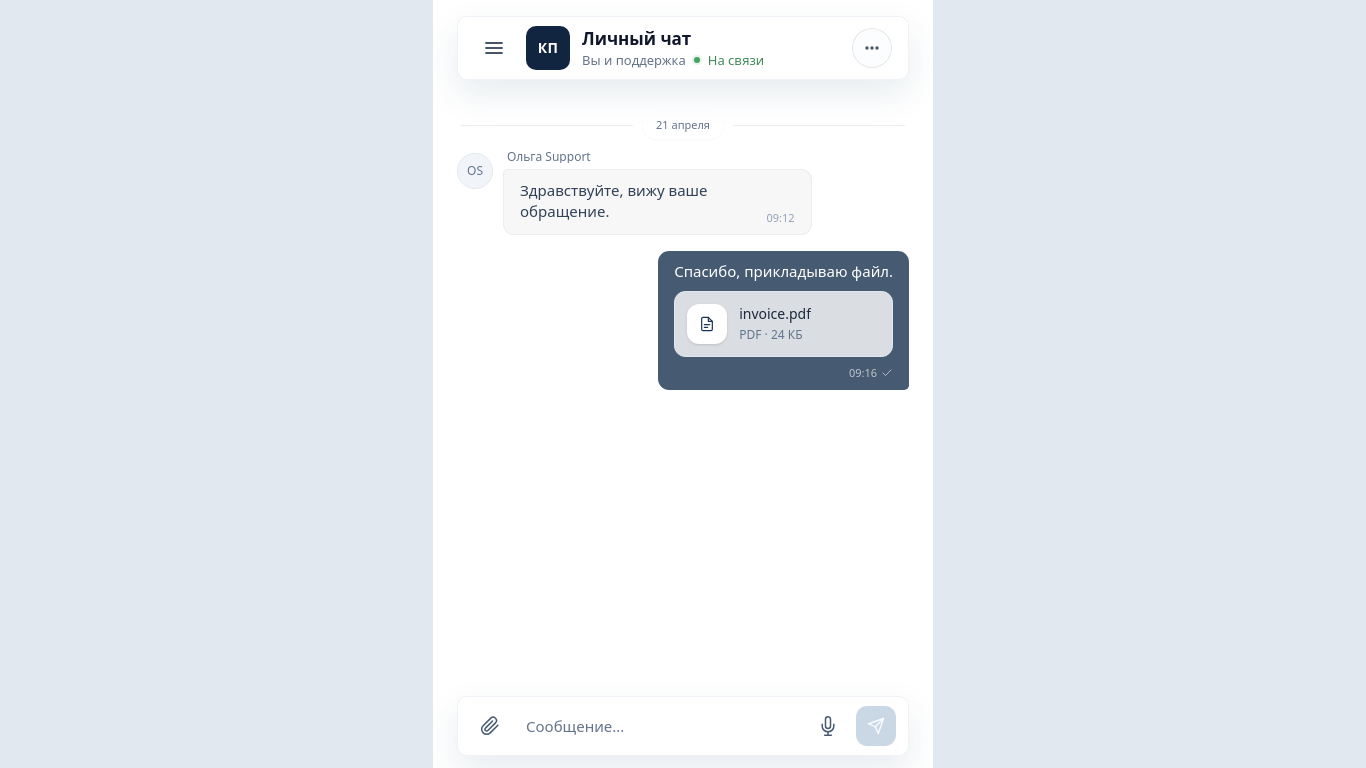
Test: ChatPage › records and sends a microphone voice message through the attachment pipeline
Expected: the text "Здравствуйте, вижу ваше обращение." is shown, x1=520 y1=180 x2=712 y2=221
Click the button named "Голосовое сообщение": x=828, y=726 x1=808 y1=706 x2=848 y2=746
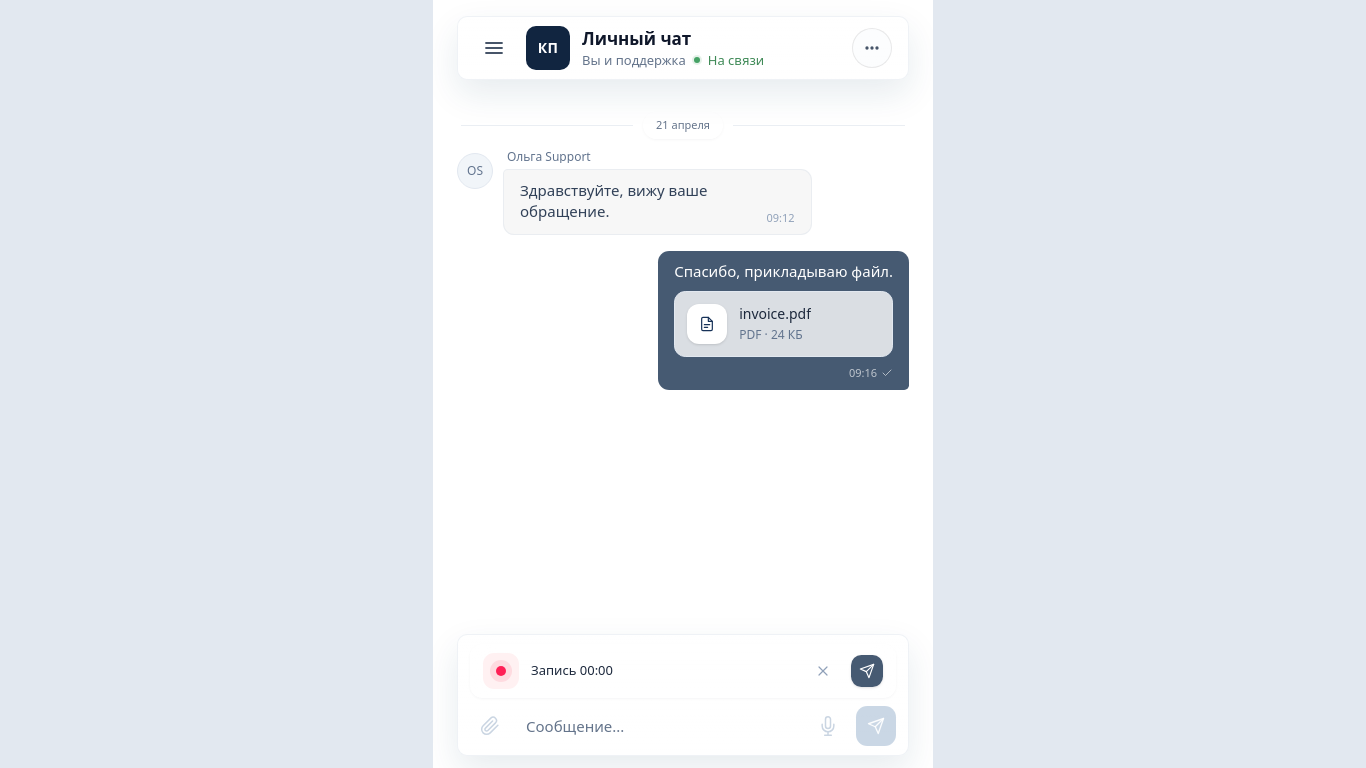
Now the text "Запись 00:00" is shown, box x1=531 y1=661 x2=613 y2=679
Click the button named "Отправить голосовое": x=867, y=671 x1=851 y1=655 x2=883 y2=687
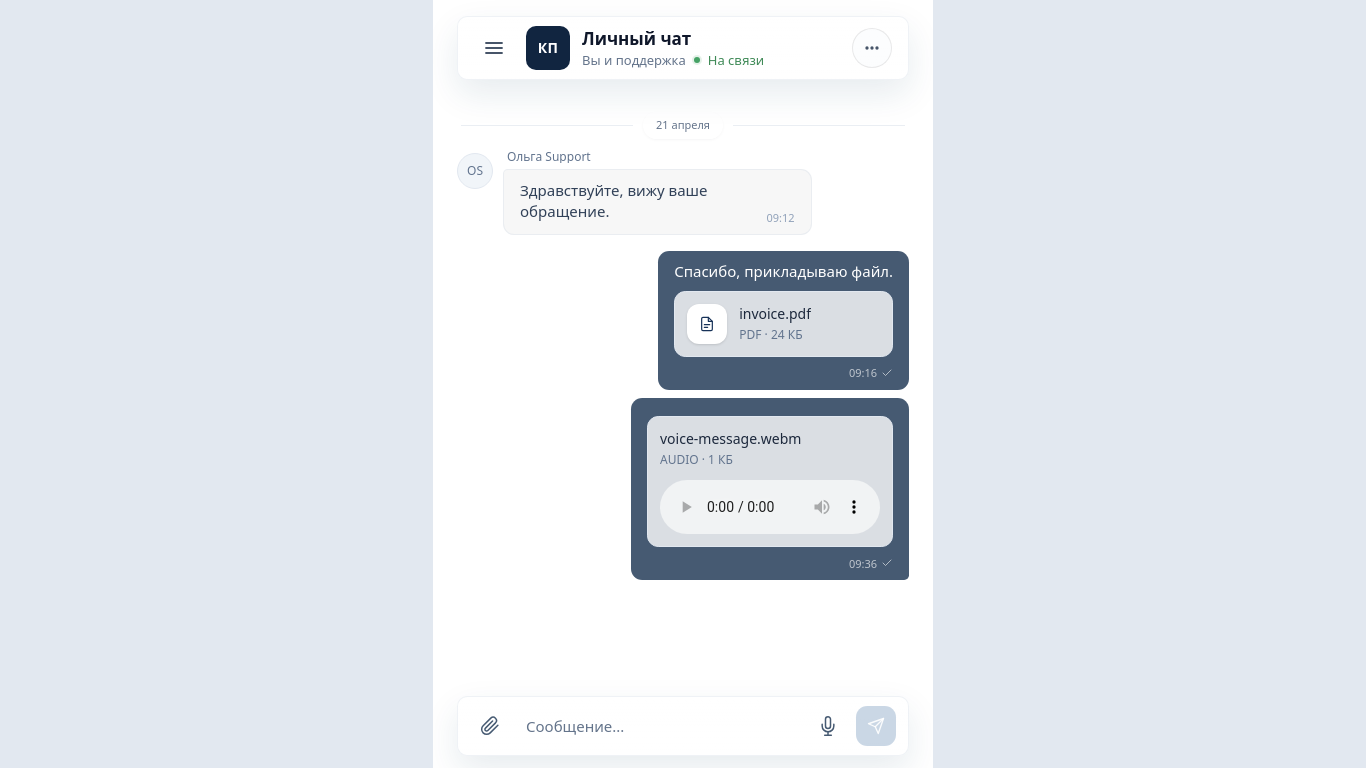
Now the text "voice-message.webm" is shown, box x1=660 y1=429 x2=801 y2=448
